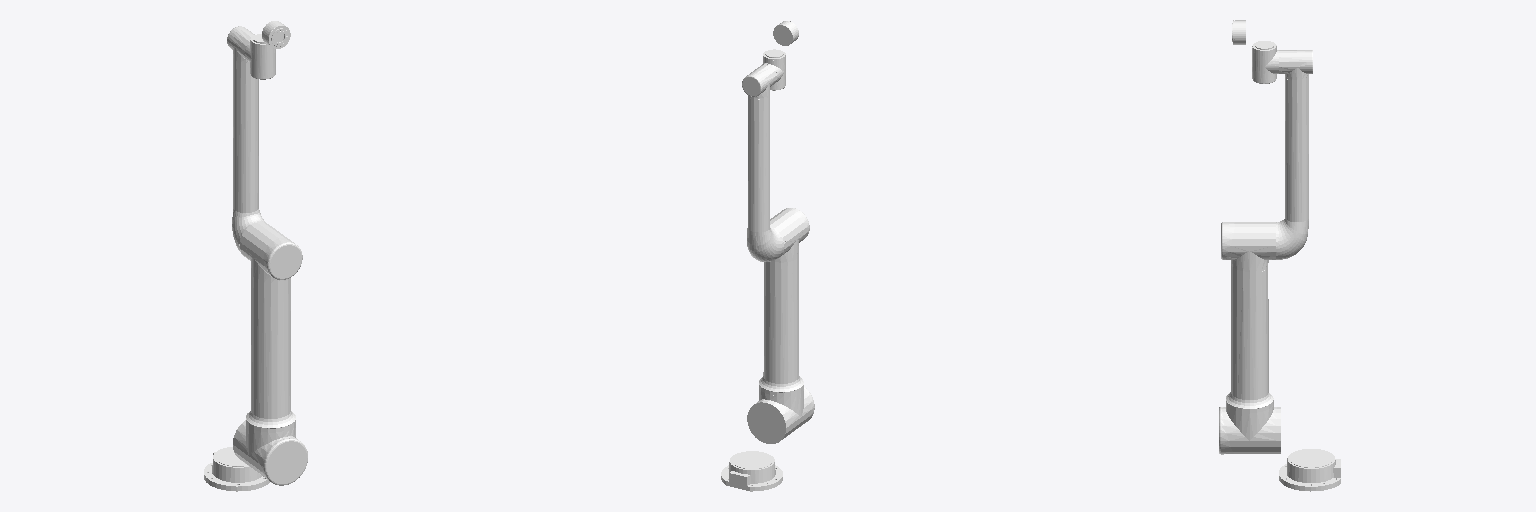
The robot description file, URDF, robot "aubo_G35_T0":
<?xml version="1.0"?>
<robot name="aubo_G35_T0">
  <dh_type type="modified"/>
  <safety_para singularity_consistent="0.02 0.01 10 0.2 0.045 10"/>
  <friction_coeff value="0.65"/>
  <link name="base_link">
    <inertial>
      <origin xyz="-0.000228 -0.001301 0.040613" rpy="0 0 0" />
      <mass value="8.239939" />
      <inertia ixx="0.060246" ixy="-0.00059" ixz="0.00011" iyy="0.060381" iyz="0.000488" izz="0.100207" />							
    </inertial>
    <visual>
      <origin xyz="0 0 0" rpy="0 0 0" />
      <geometry>
        <mesh filename="package://aubo_description/meshes/aubo_G35_T0/collision/link0.STL" />
      </geometry>
      <material name="">
        <color rgba="1 1 1 1" />
      </material>
    </visual>
    <collision>
      <origin xyz="0 0 0" rpy="0 0 0" />
      <geometry>
        <mesh filename="package://aubo_description/meshes/aubo_G35_T0/collision/link0.STL" />
      </geometry>
    </collision>
  </link>

  <link name="shoulder_Link">
    <inertial>
      <origin xyz="-0.000079 0.007612 -0.051593" rpy="0 0 0" />
      <mass value="28.341816" />
      <inertia ixx="0.242839" ixy="-0.000001" ixz="-0.000291" iyy="0.23723" iyz="0.012625" izz="0.209568" />							
    </inertial>
    <visual>
      <origin xyz="0 0 0" rpy="0 0 0" />
      <geometry>
        <mesh filename="package://aubo_description/meshes/aubo_G35_T0/collision/link1.STL" />
      </geometry>
      <material name="">
        <color rgba="1 1 1 1" />
      </material>
    </visual>
    <collision>
      <origin xyz="0 0 0" rpy="0 0 0" />
      <geometry>
        <mesh filename="package://aubo_description/meshes/aubo_G35_T0/collision/link1.STL" />
      </geometry>
    </collision>
  </link>

  <joint name="shoulder_joint" type="revolute">
    <origin xyz="0 0 0.2485" rpy="0 0 3.1415926535897932384626433832795" />
    <parent link="base_link" />
    <child link="shoulder_Link" />
    <axis xyz="0 0 1" />
    <limit lower="-6.28318530717958" upper="6.28318530717958" effort="1057" start_stop="1404" velocity="3.054326" />
    <property inertia="0" damping="0" stiffness="0" offset="0" motor_constant="30.1" ratio="120"/>
  </joint>

  <link name="upperArm_Link">
    <inertial>
      <origin xyz="0.360437 0.000041 0.034197" rpy="0 0 0" />
      <mass value="53.528966" />							
      <inertia ixx="0.423251" ixy="-0.000056" ixz="0.863274" iyy="17.546432" iyz="0.000342" izz="17.412447" />
    </inertial>
    <visual>
      <origin xyz="0 0 0" rpy="0 0 0" />
      <geometry>
        <mesh filename="package://aubo_description/meshes/aubo_G35_T0/collision/link2.STL" />
      </geometry>
      <material name="">
        <color rgba="1 1 1 1" />
      </material>
    </visual>
    <collision>
      <origin xyz="0 0 0" rpy="0 0 0" />
      <geometry>
        <mesh filename="package://aubo_description/meshes/aubo_G35_T0/collision/link2.STL" />
      </geometry>
    </collision>
  </link>

  <joint name="upperArm_joint" type="revolute">
    <origin xyz="0 0.2245 0" rpy="-1.5707963267948966192313216916398 -1.5707963267948966192313216916398 0" />
    <parent link="shoulder_Link" />
    <child link="upperArm_Link" />
    <axis xyz="0 0 1" />
    <limit lower="-6.28318530717958" upper="6.28318530717958" effort="1096" start_stop="1534" velocity="3.054326" />
    <property inertia="0" damping="0" stiffness="0" offset="0" motor_constant="30.1" ratio="160"/>
  </joint>

  <link name="foreArm_Link">
    <inertial>
      <origin xyz="0.617251 0.000000 0.13898" rpy="0 0 0" />
      <mass value="10.344526" />
      <inertia ixx="0.034318" ixy="-0.000006" ixz="0.009345" iyy="1.387947" iyz="0.000005" izz="1.383251" />
    </inertial>
    <visual>
      <origin xyz="0 0 0" rpy="0 0 0" />
      <geometry>
        <mesh filename="package://aubo_description/meshes/aubo_G35_T0/collision/link3.STL" />
      </geometry>
      <material name="">
        <color rgba="1 1 1 1" />
      </material>
    </visual>
    <collision>
      <origin xyz="0 0 0" rpy="0 0 0" />
      <geometry>
        <mesh filename="package://aubo_description/meshes/aubo_G35_T0/collision/link3.STL" />
      </geometry>
    </collision>
  </link>

  <joint name="foreArm_joint" type="revolute">
    <origin xyz="1 0 0" rpy="-3.1415926535897932384626433832795 0 0" />
    <parent link="upperArm_Link" />
    <child link="foreArm_Link" />
    <axis xyz="0 0 1" />
    <limit lower="-3.0543261909900767596164588448551" upper="3.0543261909900767596164588448551" effort="586" start_stop="802" velocity="3.490659" />
    <property inertia="0" damping="0" stiffness="0" offset="0" motor_constant="21.3" ratio="120"/>
  </joint>

  <link name="wrist1_Link">
    <inertial>
      <origin xyz="0.023434 0.000013 -0.002195" rpy="0 0 0" />
      <mass value="4.5" />
      <inertia ixx="0.007512" ixy="0.000001" ixz="0.000002" iyy="0.0138" iyz="-0.000205" izz="0.013724" />							
    </inertial>
    <visual>
      <origin xyz="0 0 0" rpy="0 0 0" />
      <geometry>
        <mesh filename="package://aubo_description/meshes/aubo_G35_T0/collision/link4.STL" />
      </geometry>
      <material name="">
        <color rgba="1 1 1 1" />
      </material>
    </visual>
    <collision>
      <origin xyz="0 0 0" rpy="0 0 0" />
      <geometry>
        <mesh filename="package://aubo_description/meshes/aubo_G35_T0/collision/link4.STL" />
      </geometry>
    </collision>
  </link>

  <joint name="wrist1_joint" type="revolute">
    <origin xyz="0.944 0 0" rpy="3.1415926535897932384626433832795 0 1.5707963267948966192313216916398" />
    <parent link="foreArm_Link" />
    <child link="wrist1_Link" />
    <axis xyz="0 0 1" />
    <limit lower="-6.28318530717958" upper="6.28318530717958" effort="140" start_stop="204" velocity="5.8643" />
    <property inertia="0" damping="0" stiffness="0" offset="0" motor_constant="12.5" ratio="100"/>
  </joint>

  <link name="wrist2_Link">
    <inertial>
      <origin xyz="0.000013 -0.023434 -0.002195" rpy="0 0 0" />
      <mass value="4.5" />
      <inertia ixx="0.011307" ixy="0.000001" ixz="0.000002" iyy="0.007907" iyz="-0.000205" izz="0.013724" />
    </inertial>
    <visual>
      <origin xyz="0 0 0" rpy="0 0 0" />
      <geometry>
        <mesh filename="package://aubo_description/meshes/aubo_G35_T0/collision/link5.STL" />
      </geometry>
      <material name="">
        <color rgba="1 1 1 1" />
      </material>
    </visual>
    <collision>
      <origin xyz="0 0 0" rpy="0 0 0" />
      <geometry>
        <mesh filename="package://aubo_description/meshes/aubo_G35_T0/collision/link5.STL" />
      </geometry>
    </collision>
  </link>

  <joint name="wrist2_joint" type="revolute">
    <origin xyz="0 0.156 0" rpy="-1.5707963267948966192313216916398 0 0" />
    <parent link="wrist1_Link" />
    <child link="wrist2_Link" />
    <axis xyz="0 0 1" />
    <limit lower="-6.28318530717958" upper="6.28318530717958" effort="140" start_stop="204" velocity="5.8643" />
    <property inertia="0" damping="0" stiffness="0" offset="0" motor_constant="12.5" ratio="100"/>
  </joint>

  <link name="wrist3_Link">
    <inertial>
      <origin xyz="-0.000148 0.000159 -0.021815" rpy="0 0 0" />
      <mass value="0.683623" />
      <inertia ixx="0.000922" ixy="-0.000002" ixz="-0.000001" iyy="0.001192" iyz="0.000007" izz="0.000923" />
    </inertial>
    <visual>
      <origin xyz="0 0 0" rpy="0 0 0" />
      <geometry>
        <mesh filename="package://aubo_description/meshes/aubo_G35_T0/collision/link6.STL" />
      </geometry>
      <material name="">
        <color rgba="1 1 1 1" />
      </material>
    </visual>
    <collision>
      <origin xyz="0 0 0" rpy="0 0 0" />
      <geometry>
        <mesh filename="package://aubo_description/meshes/aubo_G35_T0/collision/link6.STL" />
      </geometry>
    </collision>
  </link>

  <joint name="wrist3_joint" type="revolute">
    <origin xyz="0 -0.155 0" rpy="1.5707963267948966192313216916398 0 0" />
    <parent link="wrist2_Link" />
    <child link="wrist3_Link" />
    <axis xyz="0 0 1" />
    <limit lower="-6.28318530717958" upper="6.28318530717958" effort="140" start_stop="204" velocity="5.8643" />
    <property inertia="0" damping="0" stiffness="0" offset="0" motor_constant="12.5" ratio="100"/>
  </joint>

  <link name="world" />

  <joint name="world_joint" type="fixed">
    <parent link="world" />
    <child link = "base_link" />
    <origin xyz="0.0 0.0 0.0" rpy="0.0 0.0 0.0" />
  </joint>
</robot>

--- Facts derived from the render (not from the file) ---
3 views of the same robot in one strip: view 1: azimuth 30°, elevation 25°; view 2: azimuth 150°, elevation 25°; view 3: azimuth 270°, elevation 25° (orthographic).
Robot: aubo_G35_T0 — 8 links, 7 joints (6 revolute, 1 fixed); root link world; default pose: every joint at zero.
Visible links, largest first — view 1: upperArm_Link, foreArm_Link, base_link, wrist1_Link, wrist3_Link; view 2: upperArm_Link, foreArm_Link, base_link, wrist1_Link; view 3: upperArm_Link, foreArm_Link, base_link, wrist1_Link.
Link boxes in pixels (x1,y1,x2,y2): upperArm_Link: [233, 222, 307, 485]; foreArm_Link: [227, 26, 265, 256]; base_link: [204, 447, 269, 491]; wrist1_Link: [244, 34, 275, 79]; wrist3_Link: [262, 21, 290, 48]; upperArm_Link: [747, 208, 814, 443]; foreArm_Link: [742, 64, 784, 261]; base_link: [721, 451, 782, 491]; wrist1_Link: [762, 49, 785, 90]; upperArm_Link: [1219, 222, 1280, 454]; foreArm_Link: [1276, 50, 1312, 259]; base_link: [1279, 449, 1340, 491]; wrist1_Link: [1252, 41, 1278, 83].
Size in the robot's own frame: 0.3149 by 0.583 by 2.41 metres.
5 mesh visuals loaded from 7 distinct referenced files (5 binary STL); not drawn: 2 (reference not matched to a file when rendering).
